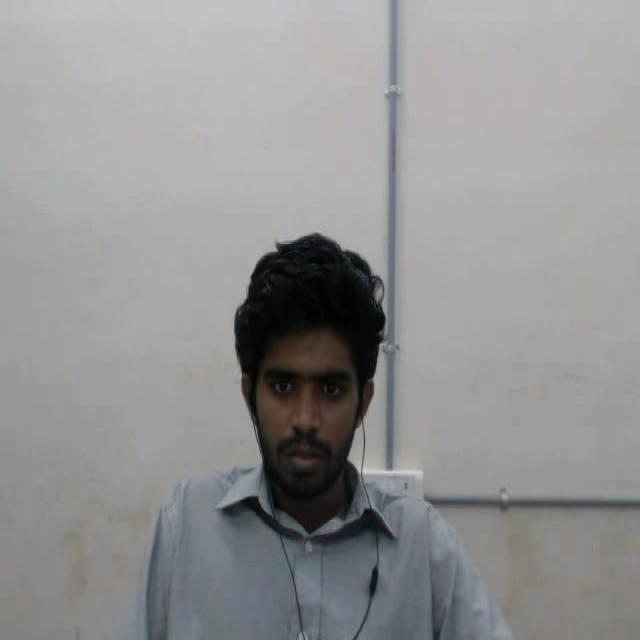Engaged: (214, 216, 411, 524)
